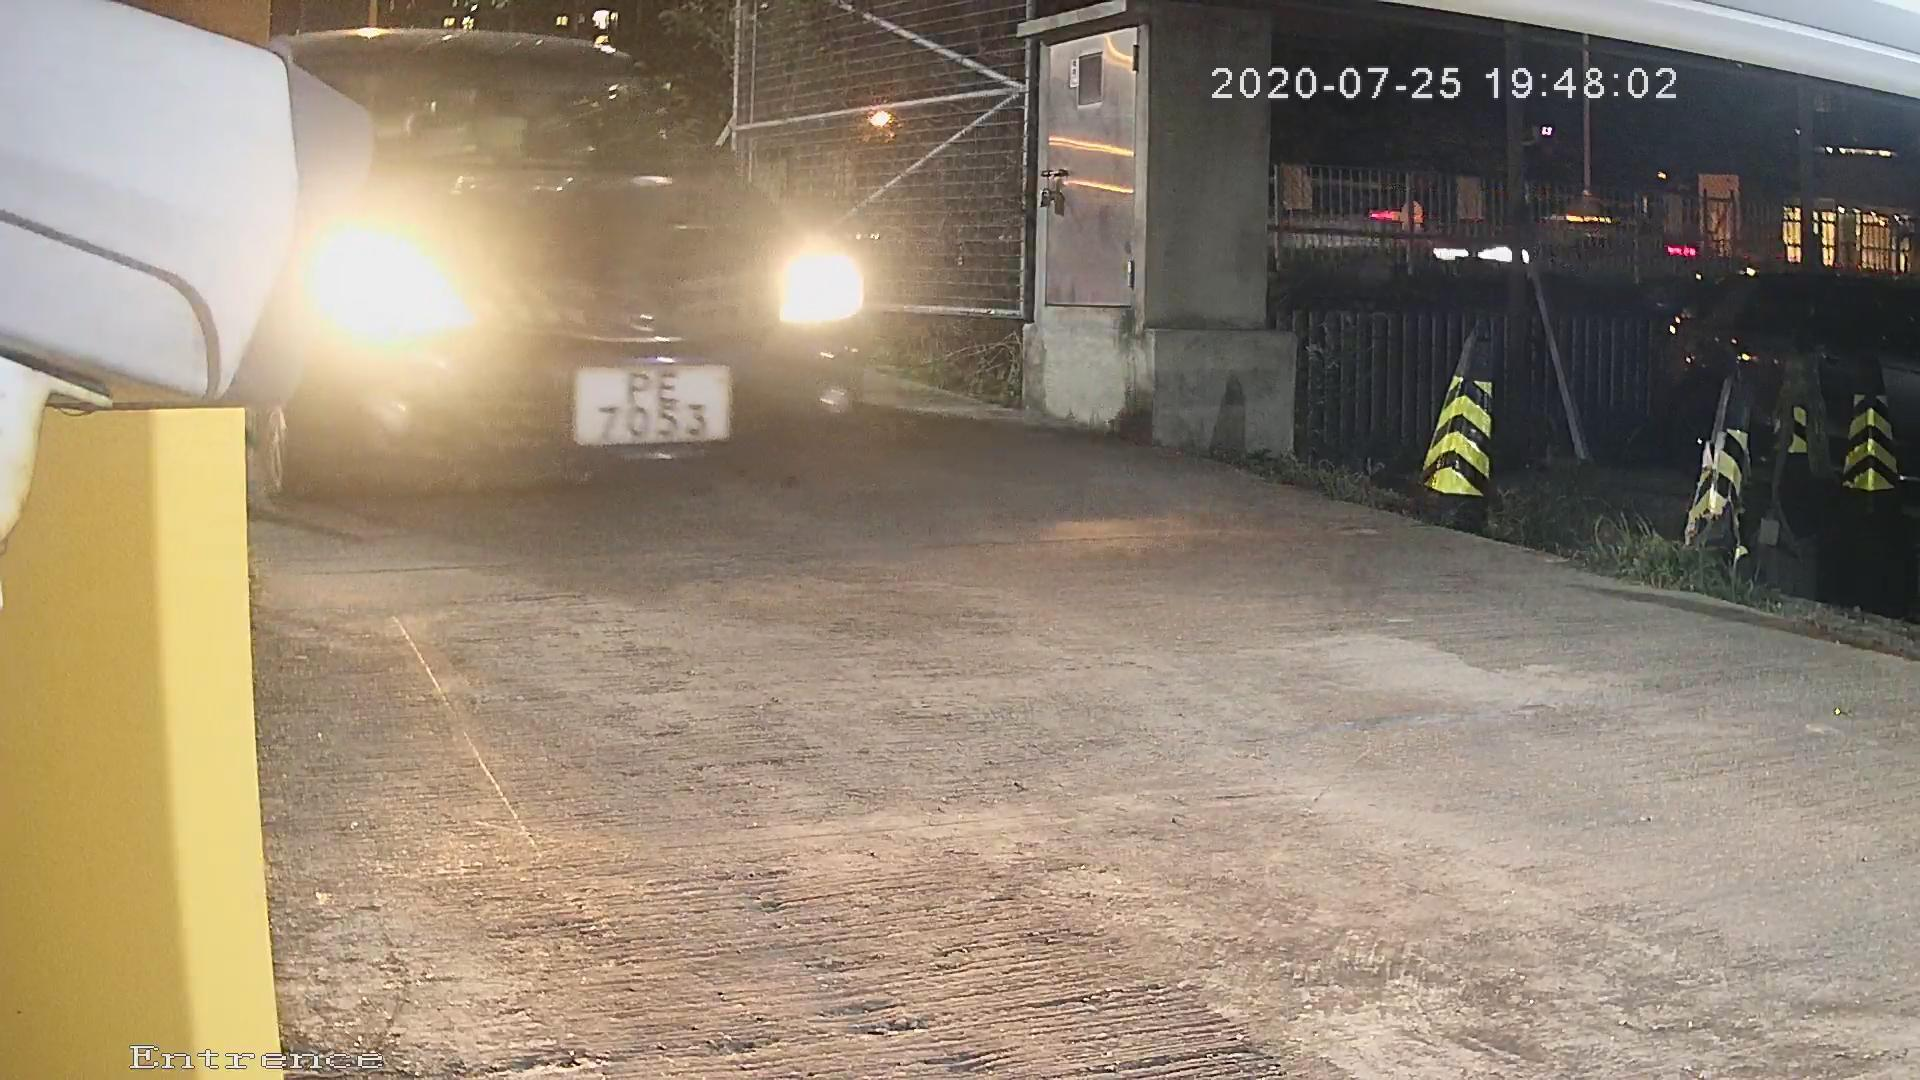privatecar: (198, 25, 952, 531)
